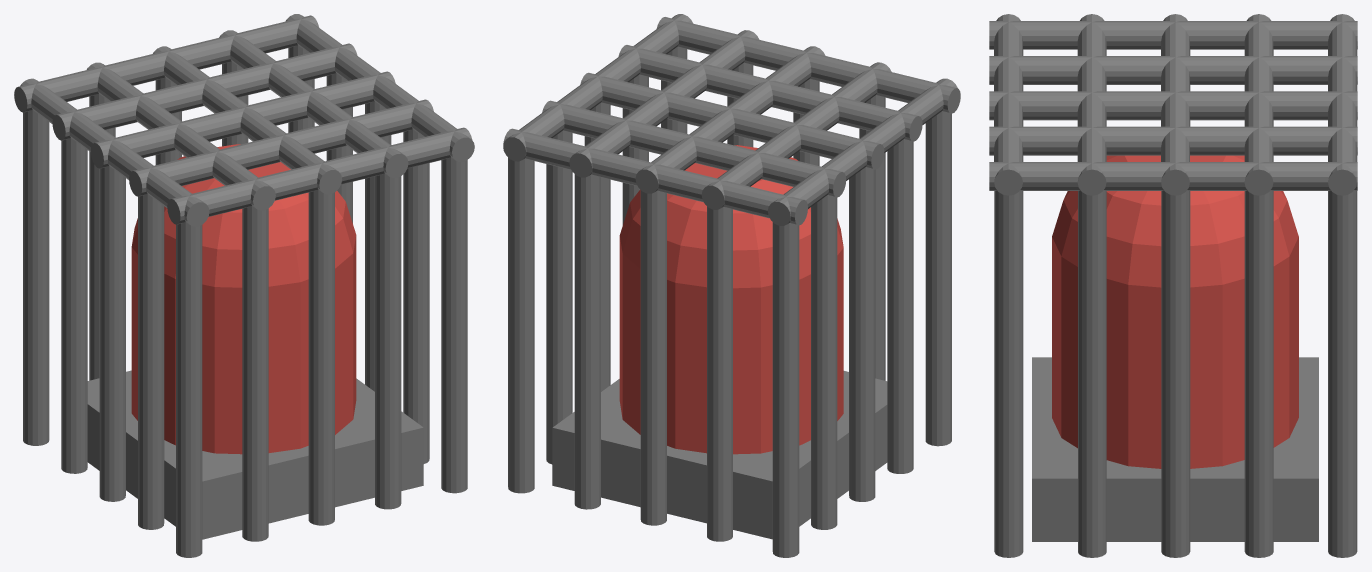
Rendered from SirenenModel.glb.
The picture shows the model from 3 angles, left to right: view 1: azimuth 30°, elevation 25°; view 2: azimuth 150°, elevation 25°; view 3: azimuth 270°, elevation 25°; orthographic projection. The views are drawn at different scales.
Visible parts, largest first — view 1: siren; view 2: siren; view 3: siren.
Boxes of the visible parts, x1,y1,x2,y2 form: siren: [14, 14, 474, 557]; siren: [503, 14, 960, 557]; siren: [989, 14, 1357, 557].
Size of the model in its own units: 1.01 by 1.18 by 1.01.
